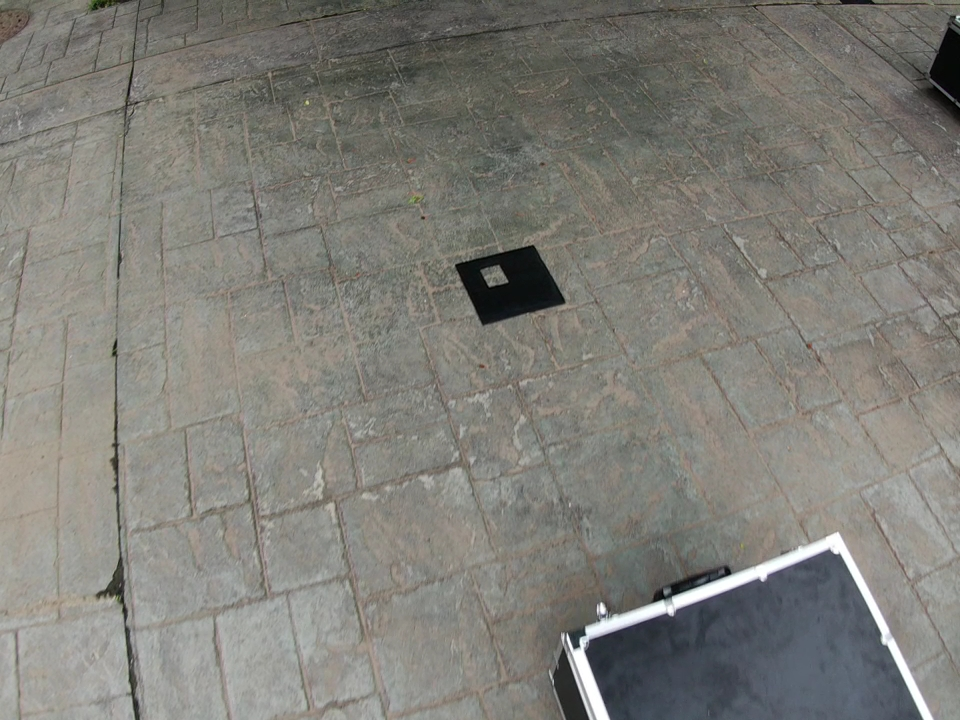box: (547, 531, 934, 720)
qrcode: (455, 245, 565, 324)
